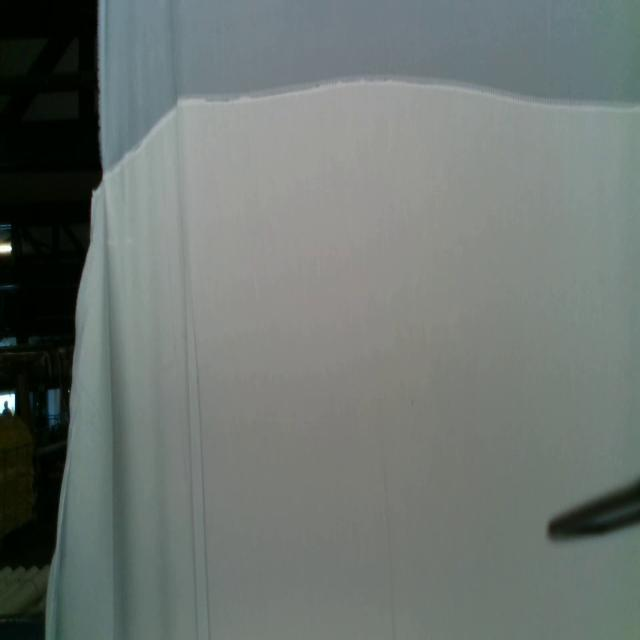crease: (193, 333, 212, 640)
